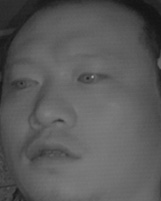eye: (74, 67, 111, 88), (9, 72, 42, 92)
mouth: (25, 132, 87, 171)
